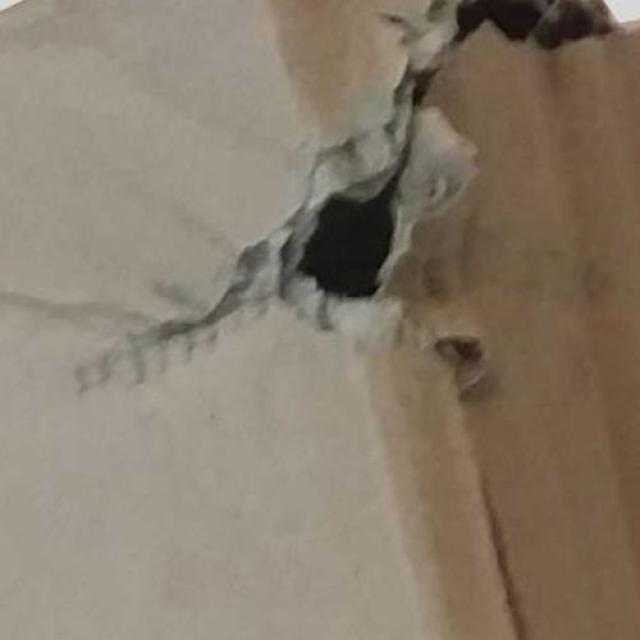box: (0, 0, 640, 640)
opened: (149, 2, 640, 399)
